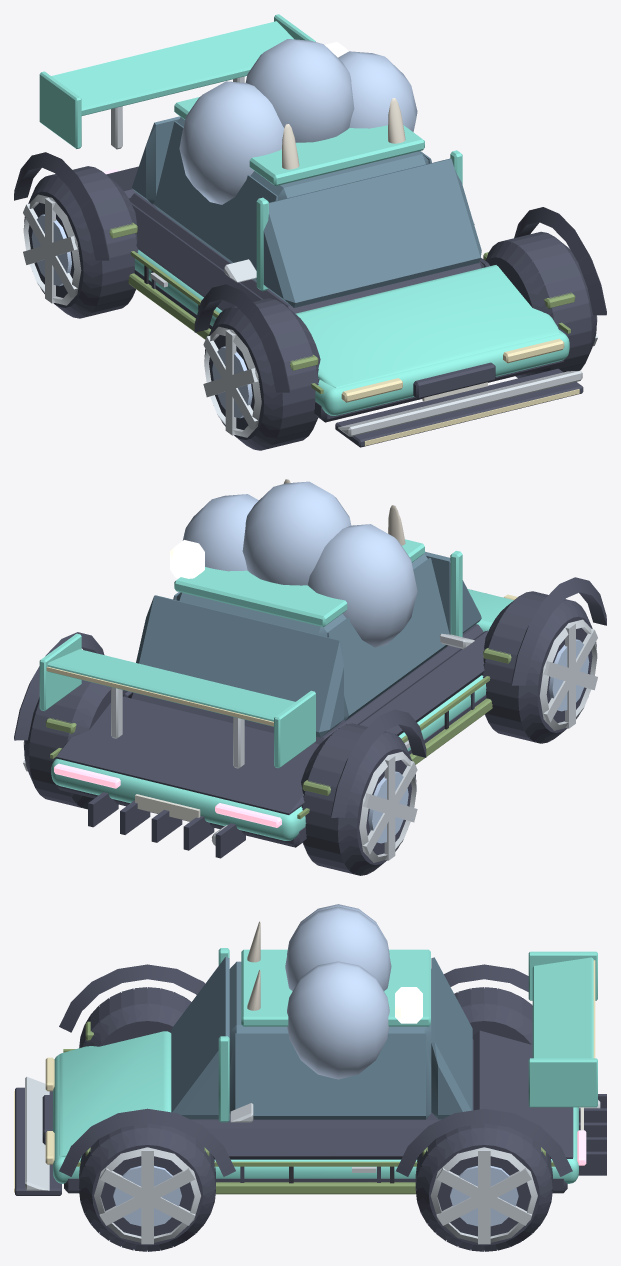
File: cloud_camel.fbx
3 renders of one model, top to bottom at view 1: azimuth 30°, elevation 25°; view 2: azimuth 150°, elevation 25°; view 3: azimuth 270°, elevation 25°, orthographic. The views are drawn at different scales.
Visible parts, largest first — view 1: Body, Glass, Trim, Accent2, Wheel_FR, Wheel_RR, Metal, Wheel_FL, Accent3, Accent, Light, Metal2 (+1 smaller); view 2: Trim, Glass, Body, Accent2, Metal, Wheel_RR, Wheel_FR, Wheel_RL, Accent, Metal2, Light2, Light (+2 smaller); view 3: Body, Trim, Glass, Accent2, Metal, Wheel_RL, Wheel_FL, Wheel_FR, Accent, Wheel_RR, Metal2, Accent3 (+3 smaller).
Boxes of the visible parts, bbox=[...] form: Body: bbox=[39, 14, 569, 415]; Glass: bbox=[132, 116, 481, 307]; Trim: bbox=[14, 152, 606, 447]; Accent2: bbox=[179, 39, 417, 204]; Wheel_FR: bbox=[204, 298, 320, 450]; Wheel_RR: bbox=[24, 166, 138, 318]; Metal: bbox=[23, 76, 597, 437]; Wheel_FL: bbox=[485, 231, 596, 378]; Accent3: bbox=[224, 221, 582, 436]; Accent: bbox=[109, 222, 575, 393]; Light: bbox=[341, 338, 579, 445]; Metal2: bbox=[31, 214, 252, 418]; Trim: bbox=[14, 577, 606, 858]; Glass: bbox=[136, 551, 481, 737]; Body: bbox=[39, 539, 513, 840]; Accent2: bbox=[182, 481, 417, 647]; Metal: bbox=[23, 619, 597, 862]; Wheel_RR: bbox=[301, 723, 416, 875]; Wheel_FR: bbox=[482, 591, 596, 743]; Wheel_RL: bbox=[24, 680, 127, 809]; Accent: bbox=[45, 648, 511, 819]; Metal2: bbox=[368, 639, 589, 843]; Light2: bbox=[54, 763, 281, 827]; Light: bbox=[46, 594, 517, 726]; Body: bbox=[53, 948, 597, 1183]; Trim: bbox=[15, 964, 606, 1195]; Glass: bbox=[171, 957, 472, 1119]; Accent2: bbox=[285, 904, 391, 1079]; Metal: bbox=[94, 1100, 600, 1244]; Wheel_RL: bbox=[415, 1123, 552, 1251]; Wheel_FL: bbox=[79, 1123, 215, 1251]; Wheel_FR: bbox=[79, 987, 191, 1048]; Accent: bbox=[63, 1021, 554, 1194]; Wheel_RR: bbox=[454, 987, 532, 1044]; Metal2: bbox=[113, 1166, 518, 1226]; Accent3: bbox=[25, 1077, 253, 1190].
Size of the model in its own units: 3.11 by 2.51 by 4.98.
